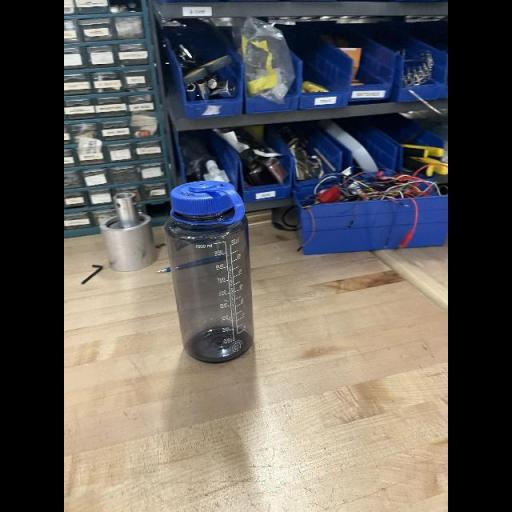bottle: (164, 180, 255, 364)
